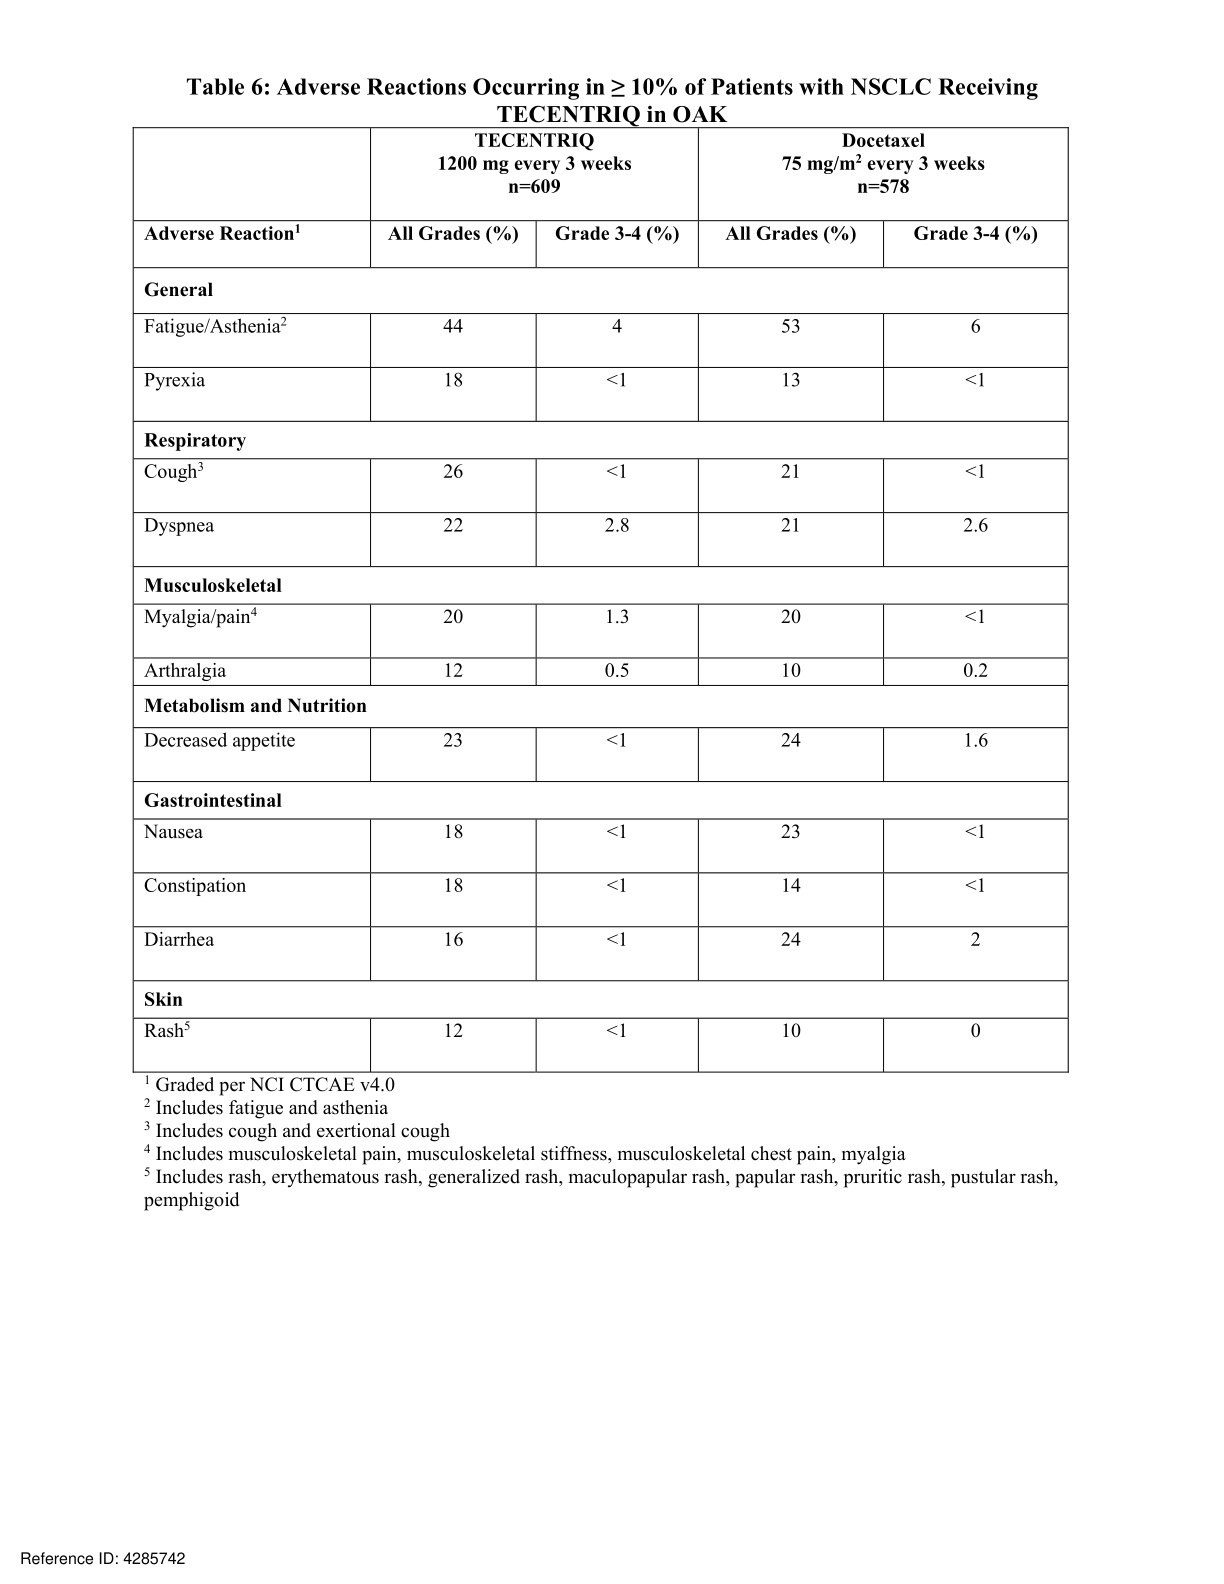merged_cells: (132, 126, 1070, 1074)
